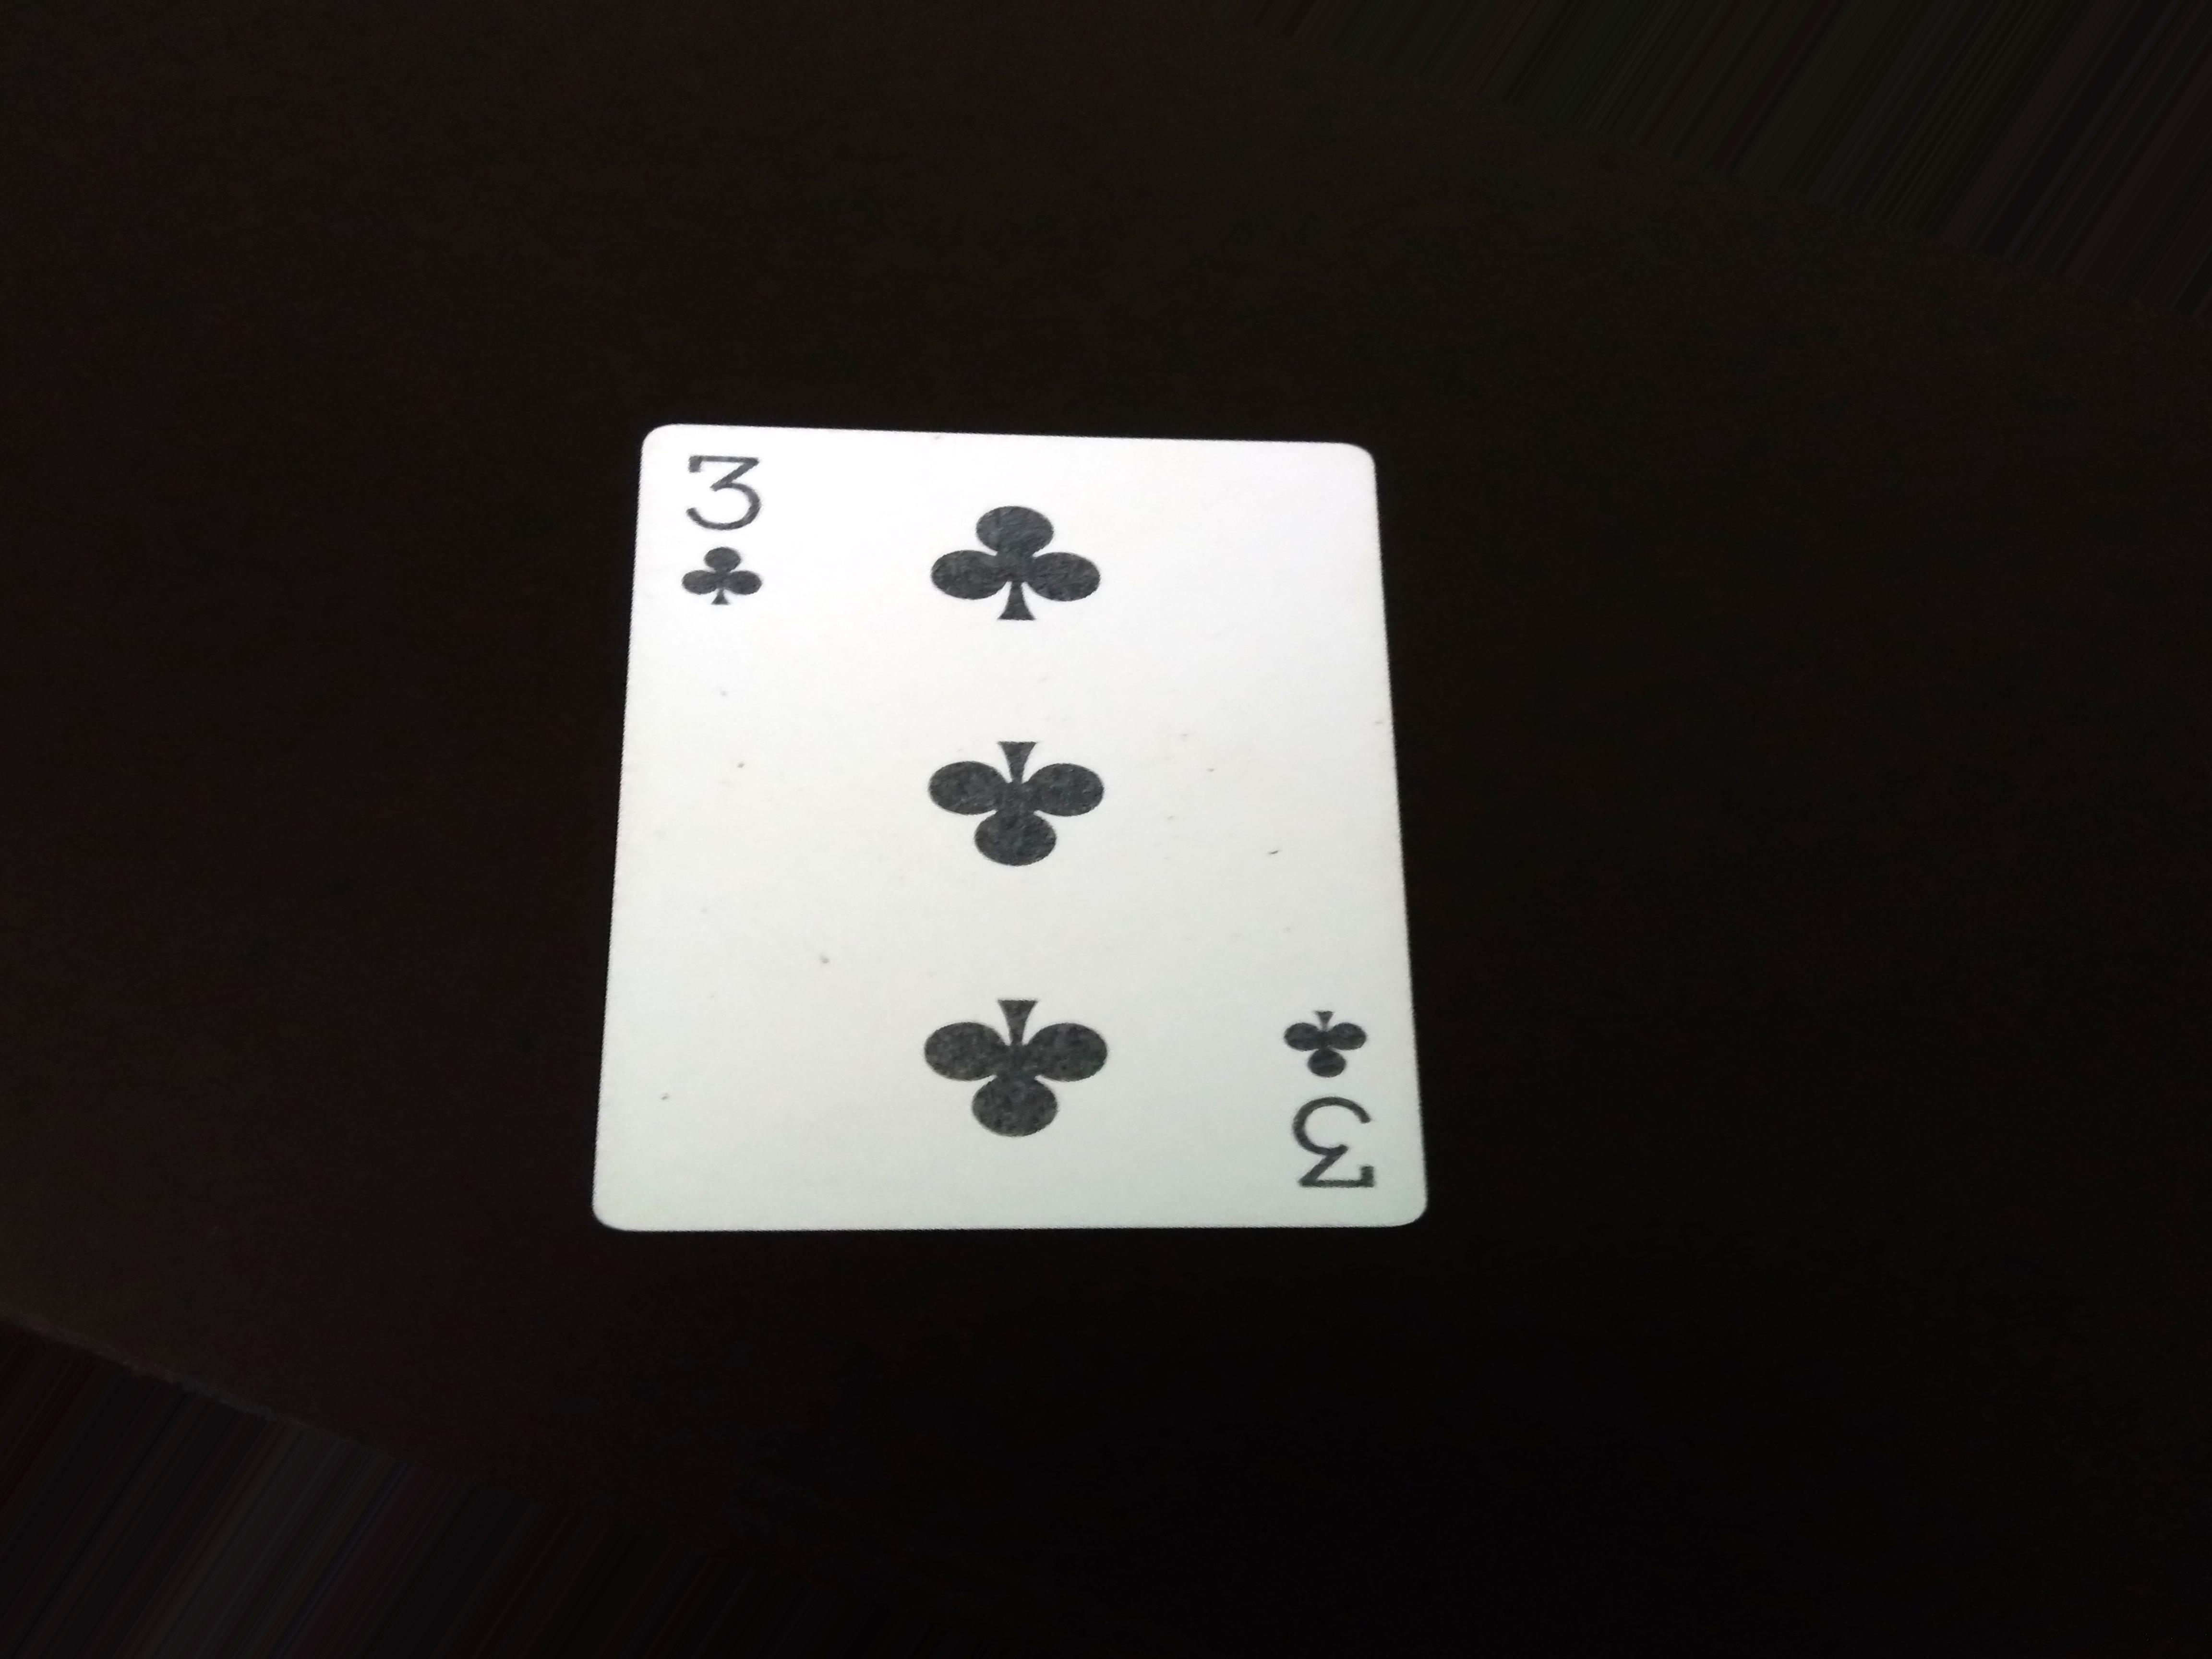3C: (672, 439, 789, 624)
